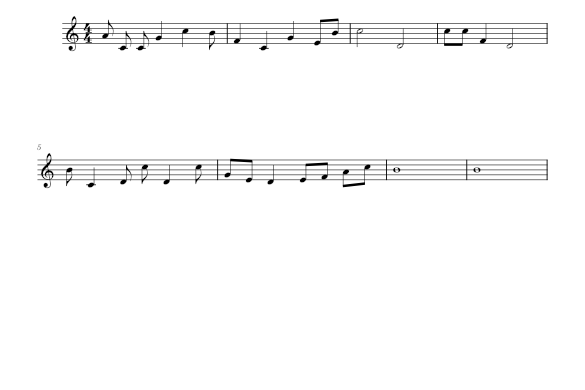Treble Clef: (62, 11, 81, 55), (38, 152, 57, 192)
